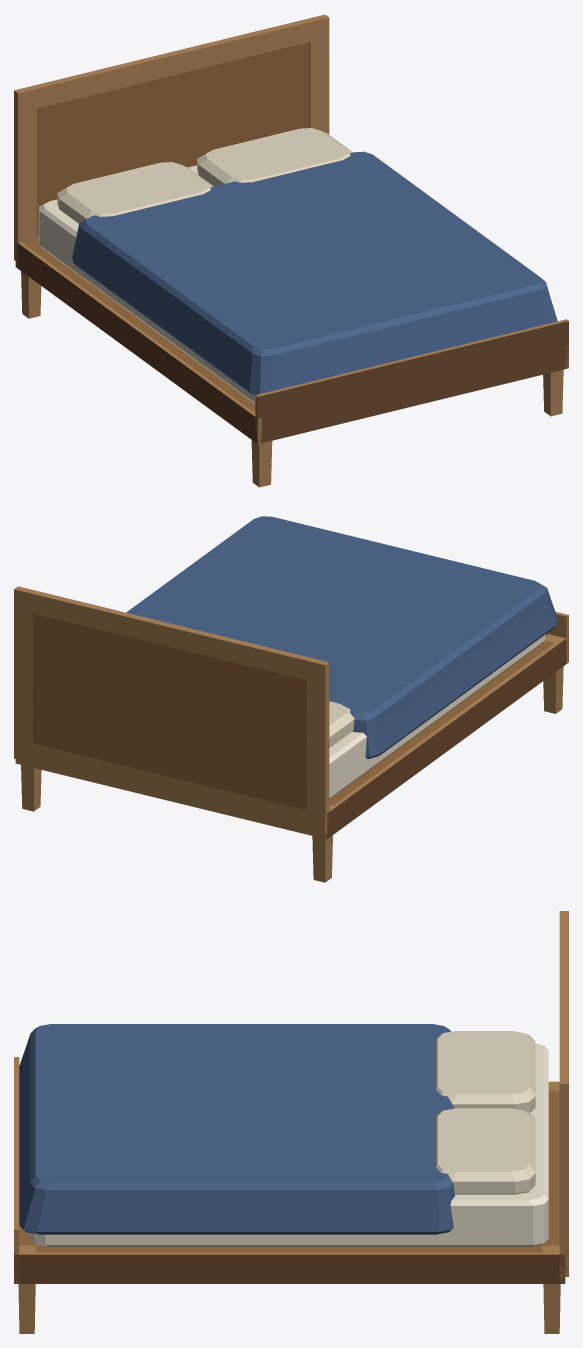
The model's file is FN_Bed_Double.obj.
The picture shows the model from 3 angles, top to bottom: view 1: azimuth 30°, elevation 25°; view 2: azimuth 150°, elevation 25°; view 3: azimuth 270°, elevation 25°; orthographic projection. The views are drawn at different scales.
Visible parts, largest first — view 1: FN_Bed_Double; view 2: FN_Bed_Double; view 3: FN_Bed_Double.
Boxes of the visible parts, <box> form: FN_Bed_Double: <box>14,14,568,487</box>; FN_Bed_Double: <box>14,516,568,882</box>; FN_Bed_Double: <box>14,911,568,1333</box>.
Size of the model in its own units: 1.5 by 1.02 by 2.03.
Materials: 1 (1 with a texture image).
